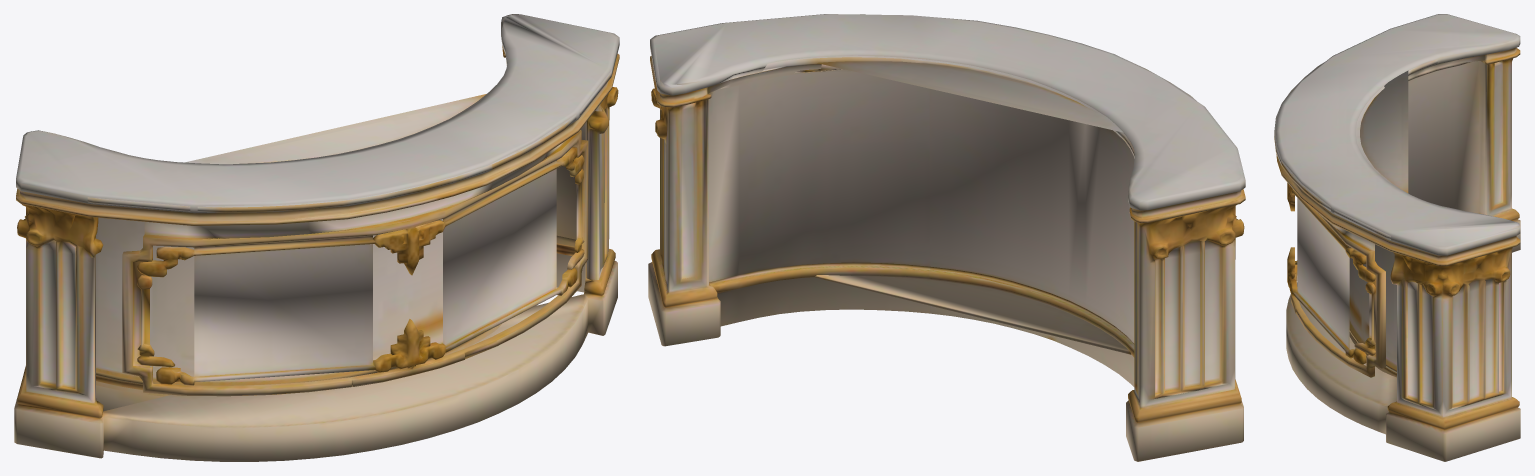
Rendered from fancy_reception_desk_58fde71d_v1.glb.
The picture shows the model from 3 angles, left to right: view 1: azimuth 30°, elevation 25°; view 2: azimuth 150°, elevation 25°; view 3: azimuth 270°, elevation 25°; orthographic projection. The views are drawn at different scales.
Visible parts, largest first — view 1: material; view 2: material; view 3: material.
Boxes of the visible parts, left/top/right/bottom form: material: left=14, top=14, right=619, bottom=461; material: left=648, top=14, right=1245, bottom=461; material: left=1274, top=14, right=1520, bottom=461.
Bounding box in the file's own units: 1.9 × 0.7987 × 0.8358.
1 material, 1 textured.
